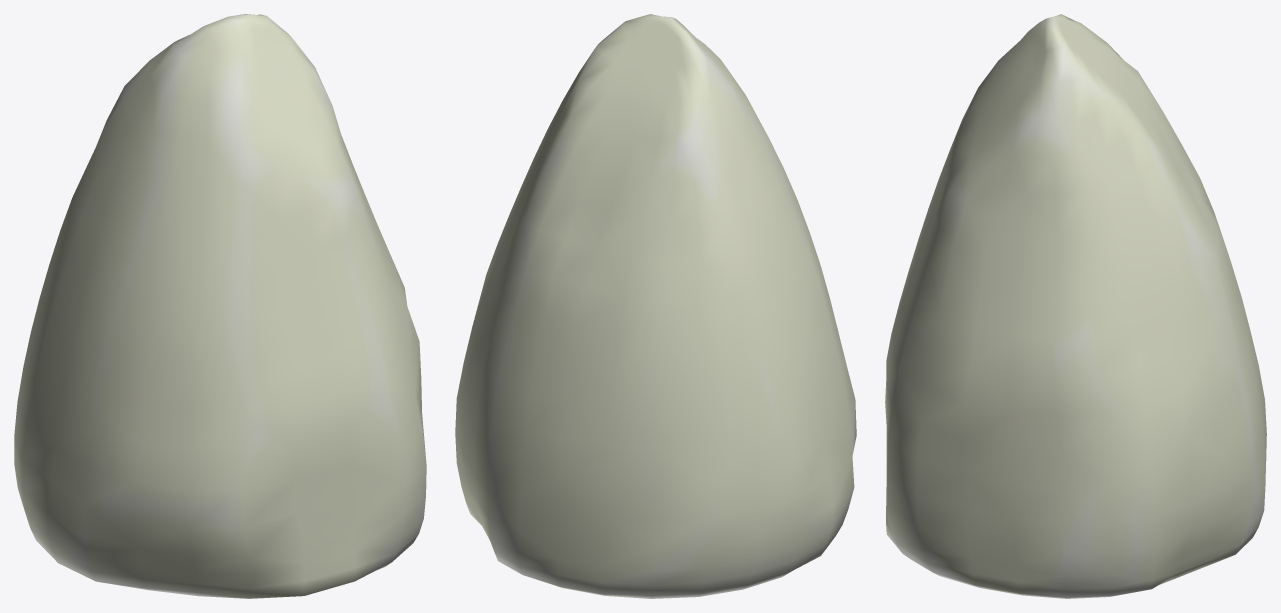
Rendered from rock1 low.fbx.
3 renders of one model, left to right at view 1: azimuth 30°, elevation 25°; view 2: azimuth 150°, elevation 25°; view 3: azimuth 270°, elevation 25°, orthographic. The views are drawn at different scales.
Visible parts, largest first — view 1: rock1_low; view 2: rock1_low; view 3: rock1_low.
Boxes of the visible parts, <box> form: rock1_low: <box>14,14,426,598</box>; rock1_low: <box>455,14,856,598</box>; rock1_low: <box>885,14,1266,598</box>.
Bounding box in the file's own units: 1.33 × 1.83 × 1.26.
1 material, 1 textured.
